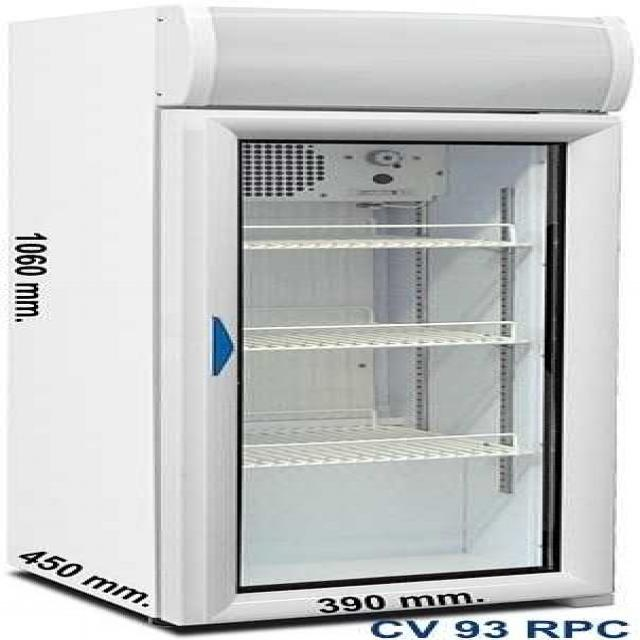refrigerator: (8, 10, 610, 613)
